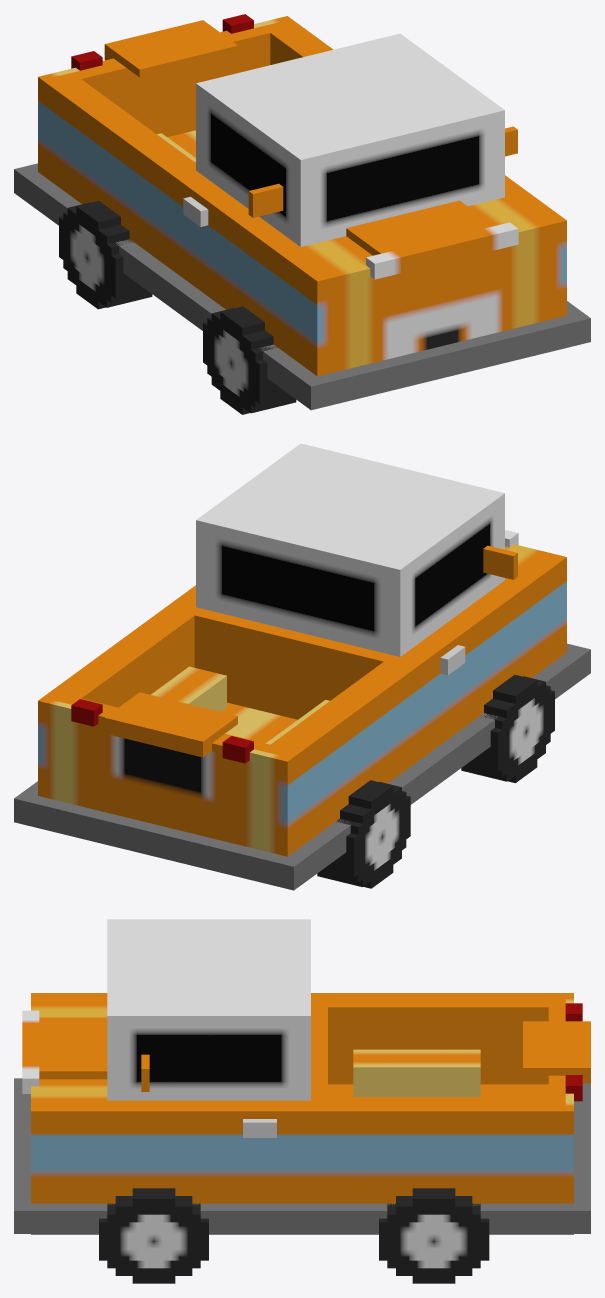
The model's file is car_2_seats_2.fbx.
3 renders of one model, top to bottom at view 1: azimuth 30°, elevation 25°; view 2: azimuth 150°, elevation 25°; view 3: azimuth 270°, elevation 25°, orthographic. The views are drawn at different scales.
Visible parts, largest first — view 1: body, back_right_wheel, back_left_wheel; view 2: body, back_left_wheel, back_right_wheel; view 3: body, front_left_wheel, front_right_wheel.
Boxes of the visible parts, <box> form: body: <box>14,14,590,410</box>; back_right_wheel: <box>203,306,296,414</box>; back_left_wheel: <box>59,201,152,309</box>; body: <box>14,443,590,890</box>; back_left_wheel: <box>317,780,410,888</box>; back_right_wheel: <box>461,674,554,783</box>; body: <box>14,919,590,1234</box>; front_left_wheel: <box>379,1188,489,1283</box>; front_right_wheel: <box>99,1188,208,1283</box>.
Size of the model in its own units: 39 by 32 by 68.
Materials: 1 (1 with a texture image).
